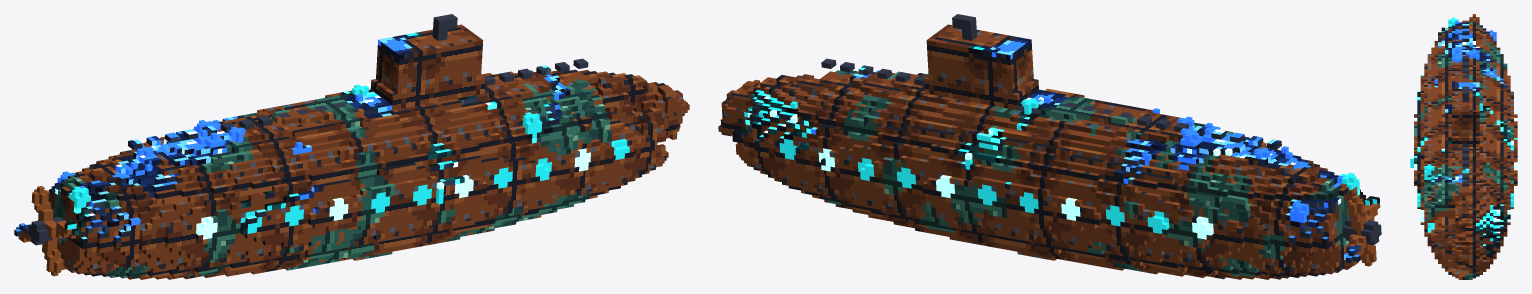
The model's file is submarine_wreck.glb.
The picture shows the model from 3 angles, left to right: view 1: azimuth 30°, elevation 25°; view 2: azimuth 150°, elevation 25°; view 3: azimuth 270°, elevation 25°; orthographic projection. The views are drawn at different scales.
Visible parts, largest first — view 1: hull; view 2: hull; view 3: hull.
Part boxes in pixels (x1=…): hull: x1=14, y1=14, x2=689, y2=279; hull: x1=718, y1=14, x2=1381, y2=279; hull: x1=1410, y1=14, x2=1517, y2=279.
Size of the model in its own units: 8.76 by 2.76 by 1.94.
Materials: 8 (8 with a texture image).
